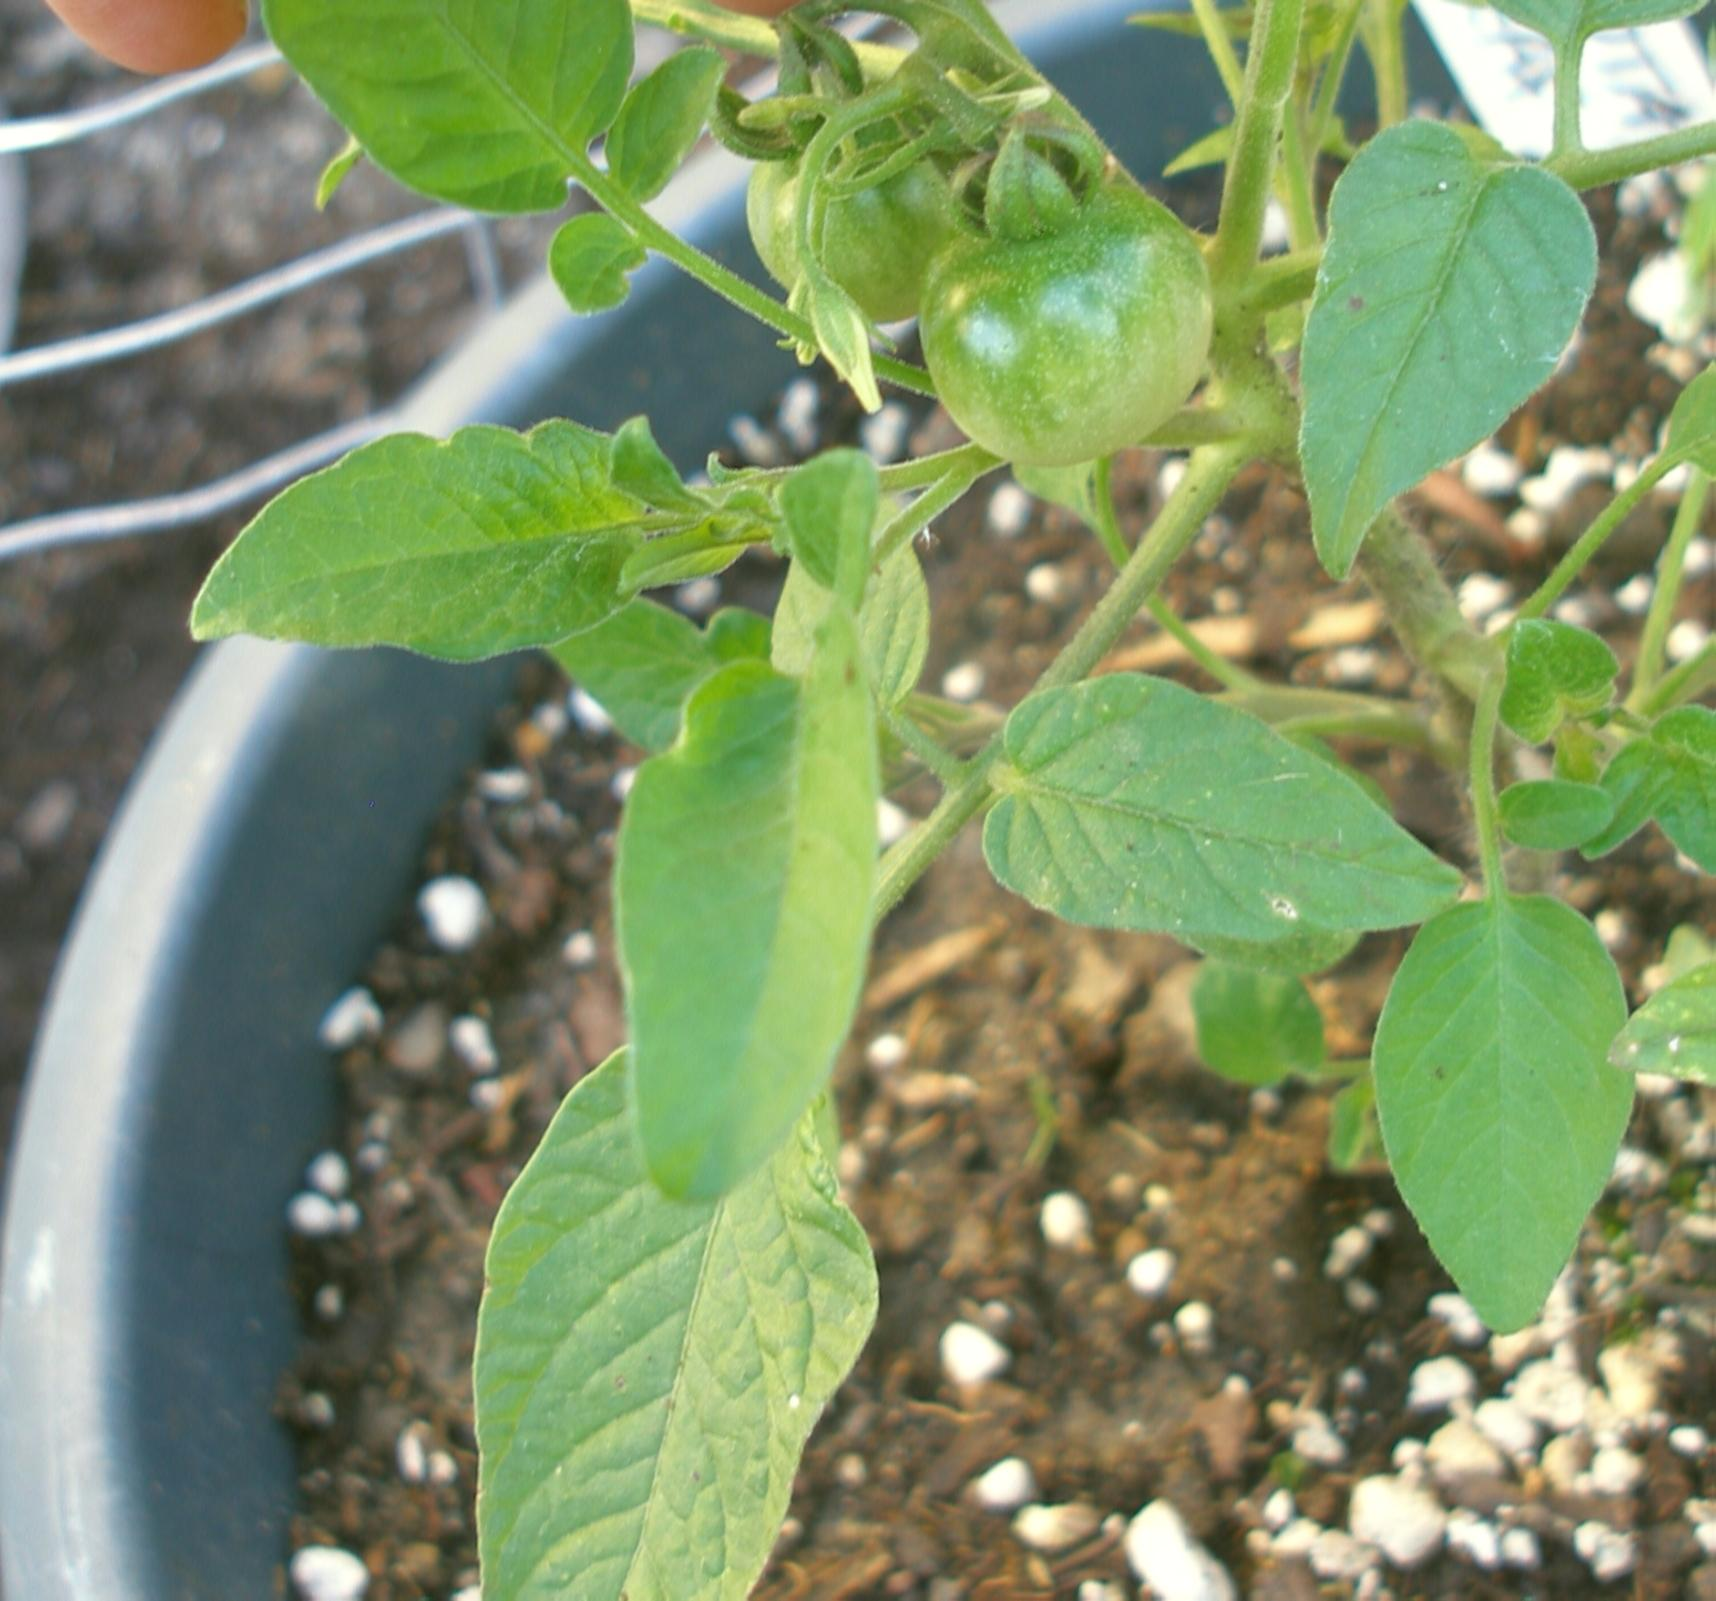Tomato leaf: (390, 1004, 1001, 1601), (932, 643, 1475, 1025), (113, 328, 598, 739), (1228, 116, 1651, 533), (1337, 862, 1675, 1381), (145, 0, 689, 305), (605, 652, 878, 1250), (1540, 667, 1716, 934)
